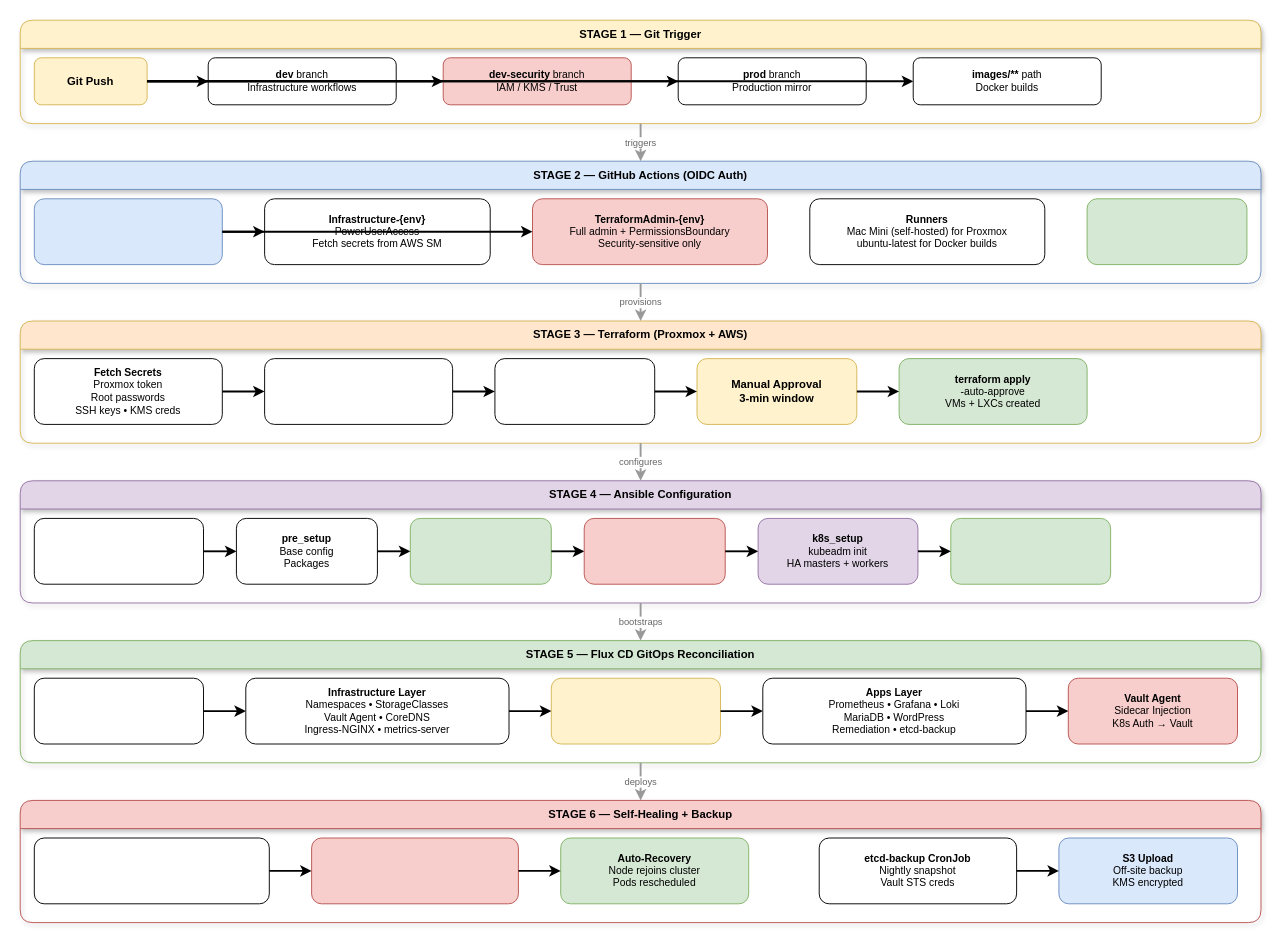
Some shapes in this 1283 by 946 pixel diagram are drawn without their labels. The shapes that lost their labels are listed below. From the top down, each one's centre as x and y in pixels, then its label:
the point at 127,231: OIDC Token GitHub → AWS STS AssumeRole
the point at 1166,231: Docker Build remediation + etcd-backup → GHCR
the point at 358,391: terraform init S3 state backend DynamoDB lock
the point at 574,391: terraform plan Review output
the point at 118,550: Clone Repo Deploy key SSH auth dev or prod branch
the point at 480,550: freeipa_setup Identity • DNS CA • Keytabs
the point at 654,550: vault_setup HA cluster KMS unseal
the point at 1030,550: flux_setup Bootstrap Flux CD Watch git branch
the point at 118,710: GitRepository Watch every 1m SSH deploy key
the point at 635,710: Health Gate vault-agent-injector Ready == true
the point at 151,870: Remediation Pod Phase 1: 5min node scan Phase 1.5: 3min confirm
the point at 414,870: Phase 2: Escalate Proxmox API call Worker reset/reboot
